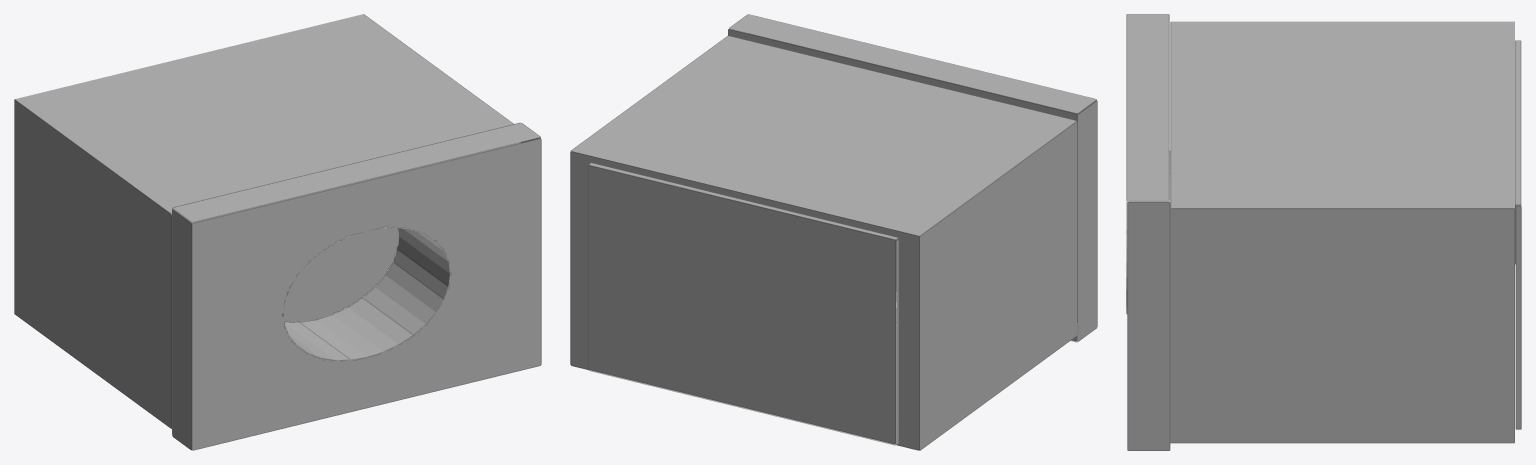
Rendered from pz_counter_oak_floor__sink_inset_oval.obj.
The picture shows the model from 3 angles, left to right: view 1: azimuth 30°, elevation 25°; view 2: azimuth 150°, elevation 25°; view 3: azimuth 270°, elevation 25°; orthographic projection. The views are drawn at different scales.
Size of the model in its own units: 1 by 0.6266 by 0.895.
Materials: 1 (1 with a texture image).
